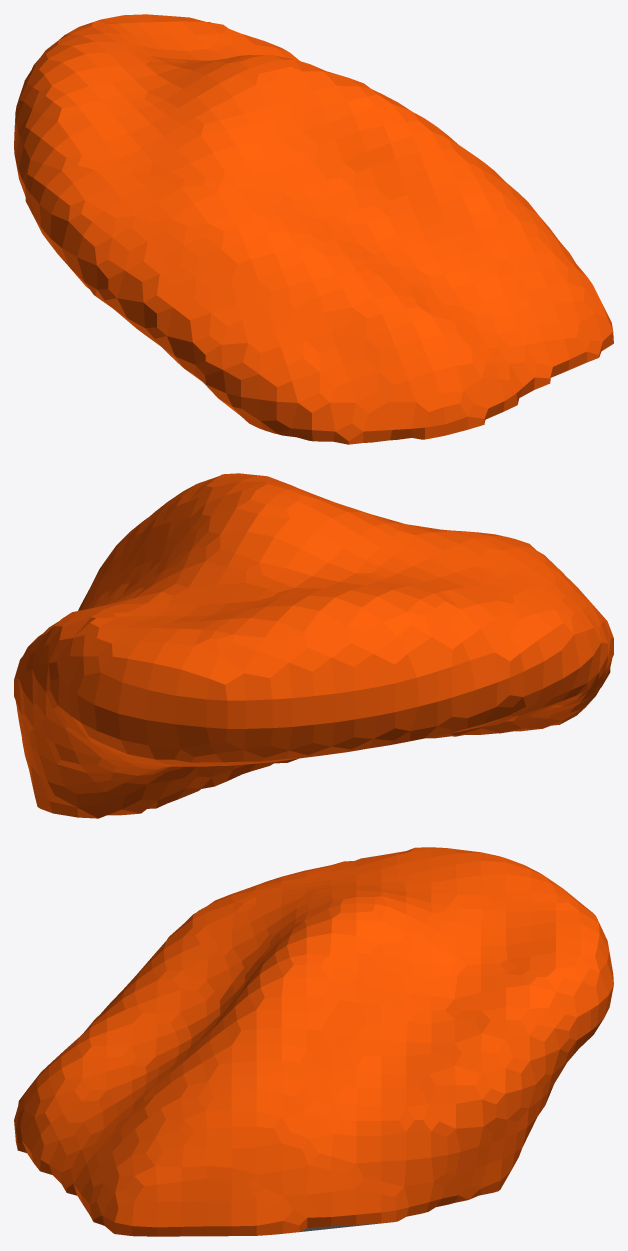
The picture shows the model from 3 angles, top to bottom: view 1: azimuth 30°, elevation 25°; view 2: azimuth 150°, elevation 25°; view 3: azimuth 270°, elevation 25°; orthographic projection. The views are drawn at different scales.
Visible parts, largest first — view 1: 19.010; view 2: 19.010; view 3: 19.010.
Boxes of the visible parts, <box> form: 19.010: <box>14,14,613,444</box>; 19.010: <box>14,473,613,818</box>; 19.010: <box>14,847,613,1236</box>.
Bounding box in the file's own units: 10.12 × 5.05 × 12.03.
